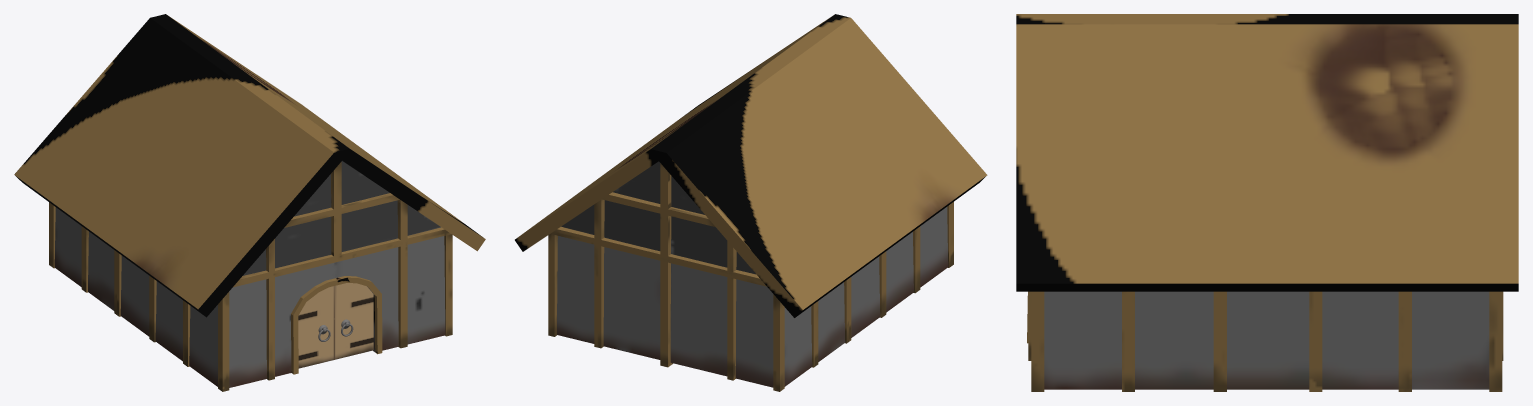
The model's file is barn.fbx.
3 renders of one model, left to right at view 1: azimuth 30°, elevation 25°; view 2: azimuth 150°, elevation 25°; view 3: azimuth 270°, elevation 25°, orthographic. The views are drawn at different scales.
Parts seen in each view (by area): view 1: roof1, barn, wood, door, door_deco; view 2: roof1, barn, wood; view 3: roof1, barn, wood.
Part boxes in pixels (x1,y1,x2,y2): roof1: (14,14,485,317); barn: (54,161,445,387); wood: (49,162,452,391); door: (298,283,373,368); door_deco: (291,276,382,374); roof1: (515,14,987,317); barn: (557,161,948,387); wood: (548,163,953,391); roof1: (1016,14,1518,291); barn: (1044,291,1489,389); wood: (1028,291,1503,391).
Bounding box in the file's own units: 5876 × 4276 × 6515.
